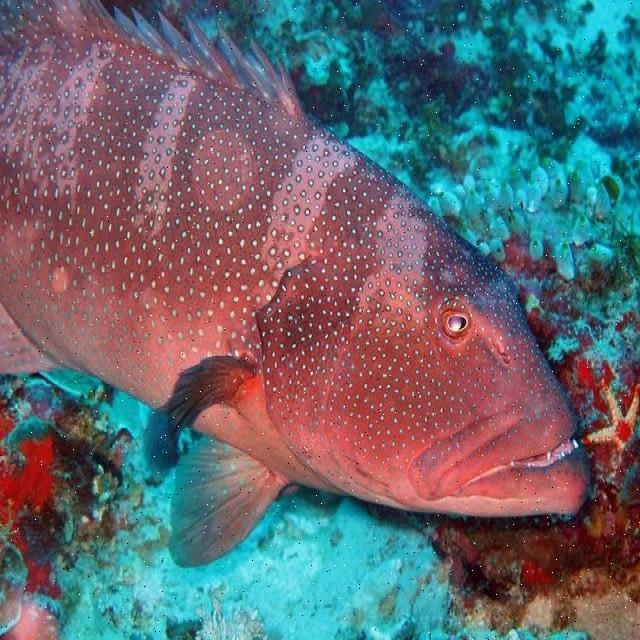fish: (0, 0, 590, 564)
